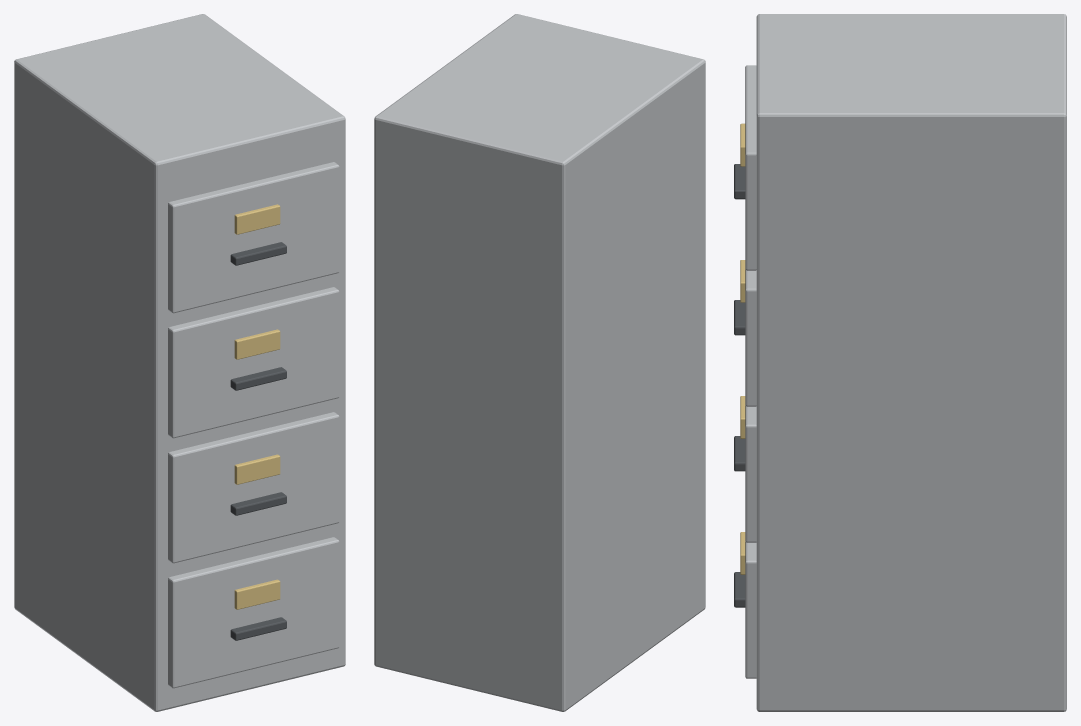
The model's file is filing_cabinet.glb.
The picture shows the model from 3 angles, left to right: view 1: azimuth 30°, elevation 25°; view 2: azimuth 150°, elevation 25°; view 3: azimuth 270°, elevation 25°; orthographic projection. The views are drawn at different scales.
Parts seen in each view (by area): view 1: FileBody, FDrawer_0, FDrawer_3, FDrawer_1, FDrawer_2, Label_1, Label_2, Label_3, Label_0, Handle_0, Handle_1, Handle_2 (+1 smaller); view 2: FileBody; view 3: FileBody, FDrawer_3, FDrawer_0, FDrawer_1, FDrawer_2.
Part boxes in pixels (left/top/right/bottom): FileBody: left=14, top=14, right=345, bottom=711; FDrawer_0: left=168, top=537, right=339, bottom=688; FDrawer_3: left=168, top=162, right=339, bottom=313; FDrawer_1: left=168, top=412, right=339, bottom=563; FDrawer_2: left=168, top=287, right=339, bottom=438; Label_1: left=234, top=454, right=280, bottom=484; Label_2: left=234, top=329, right=280, bottom=359; Label_3: left=234, top=204, right=280, bottom=234; Label_0: left=234, top=579, right=280, bottom=609; Handle_0: left=230, top=617, right=286, bottom=640; Handle_1: left=230, top=492, right=286, bottom=515; Handle_2: left=230, top=367, right=286, bottom=390; FileBody: left=374, top=14, right=705, bottom=711; FileBody: left=756, top=14, right=1066, bottom=711; FDrawer_3: left=745, top=65, right=756, bottom=270; FDrawer_0: left=745, top=541, right=756, bottom=678; FDrawer_1: left=745, top=405, right=756, bottom=542; FDrawer_2: left=745, top=269, right=756, bottom=406.
Bounding box in the file's own units: 0.48 × 1.32 × 0.665.
